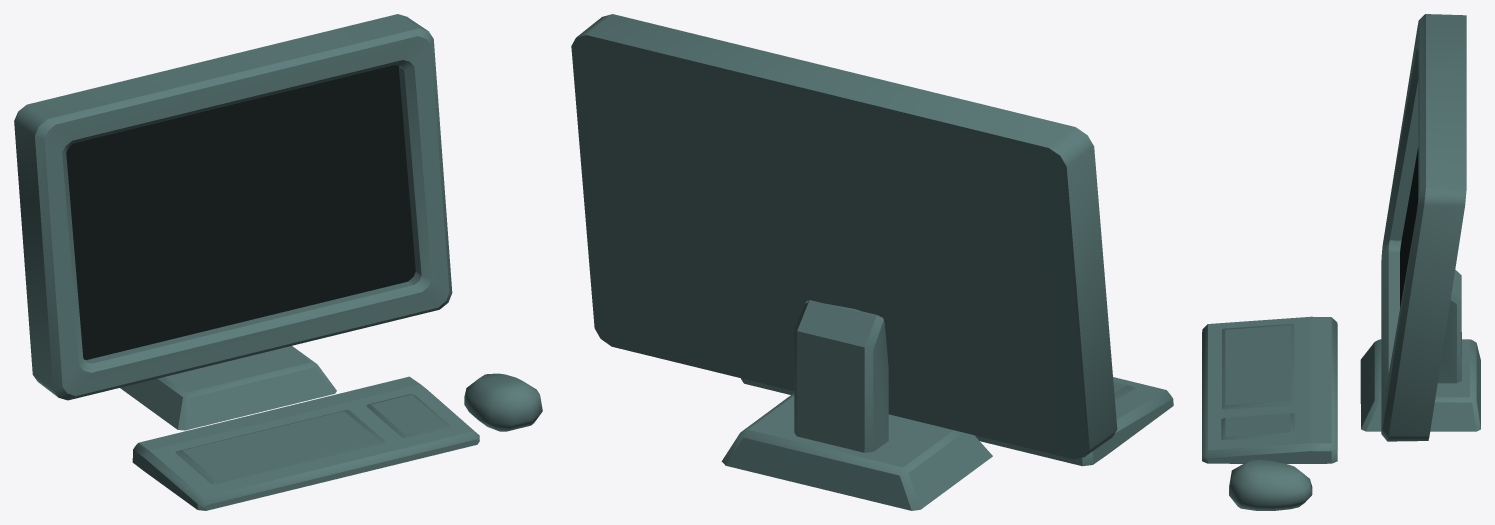
File: computerScreen.fbx
The picture shows the model from 3 angles, left to right: view 1: azimuth 30°, elevation 25°; view 2: azimuth 150°, elevation 25°; view 3: azimuth 270°, elevation 25°; orthographic projection. The views are drawn at different scales.
Visible parts, largest first — view 1: computerScreen; view 2: computerScreen; view 3: computerScreen.
Boxes of the visible parts, x1=… form: computerScreen: x1=14, y1=14, x2=542, y2=510; computerScreen: x1=571, y1=14, x2=1173, y2=510; computerScreen: x1=1202, y1=14, x2=1480, y2=510.
Bounding box in the file's own units: 462 × 348 × 281.
